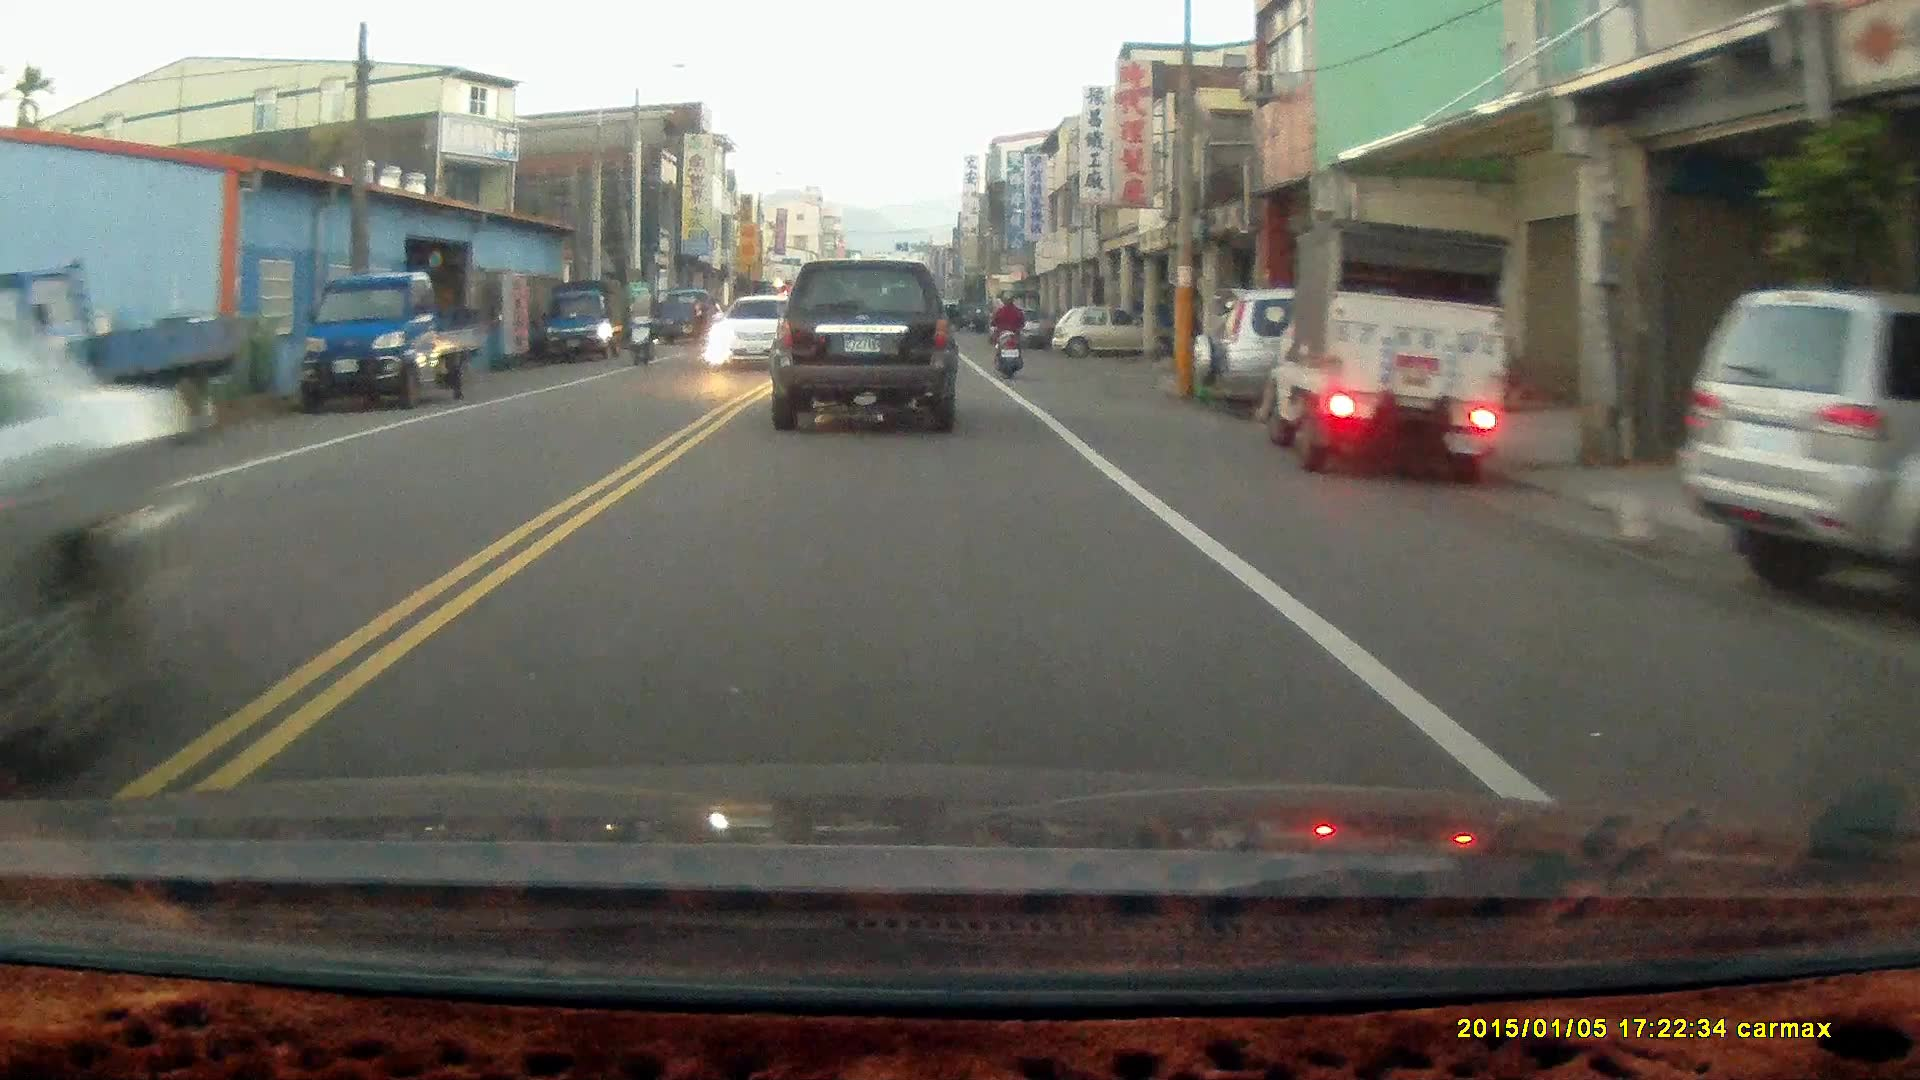pedestrian: (688, 297, 708, 348)
rider: (989, 284, 1026, 381), (624, 282, 659, 364)
vehicle: (1, 288, 222, 795), (1682, 287, 1920, 600), (1263, 219, 1519, 480), (1192, 277, 1530, 427), (7, 265, 235, 460), (769, 255, 962, 431), (299, 270, 482, 408), (538, 279, 637, 360), (1057, 306, 1139, 359)
